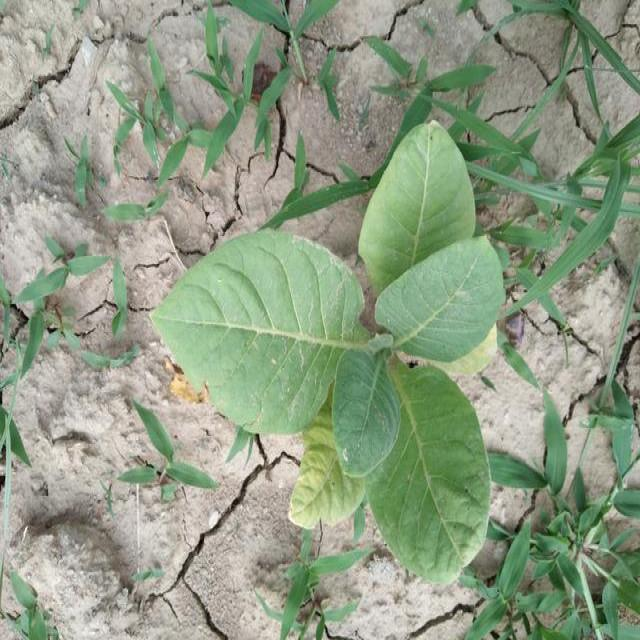crop: (144, 108, 510, 596)
